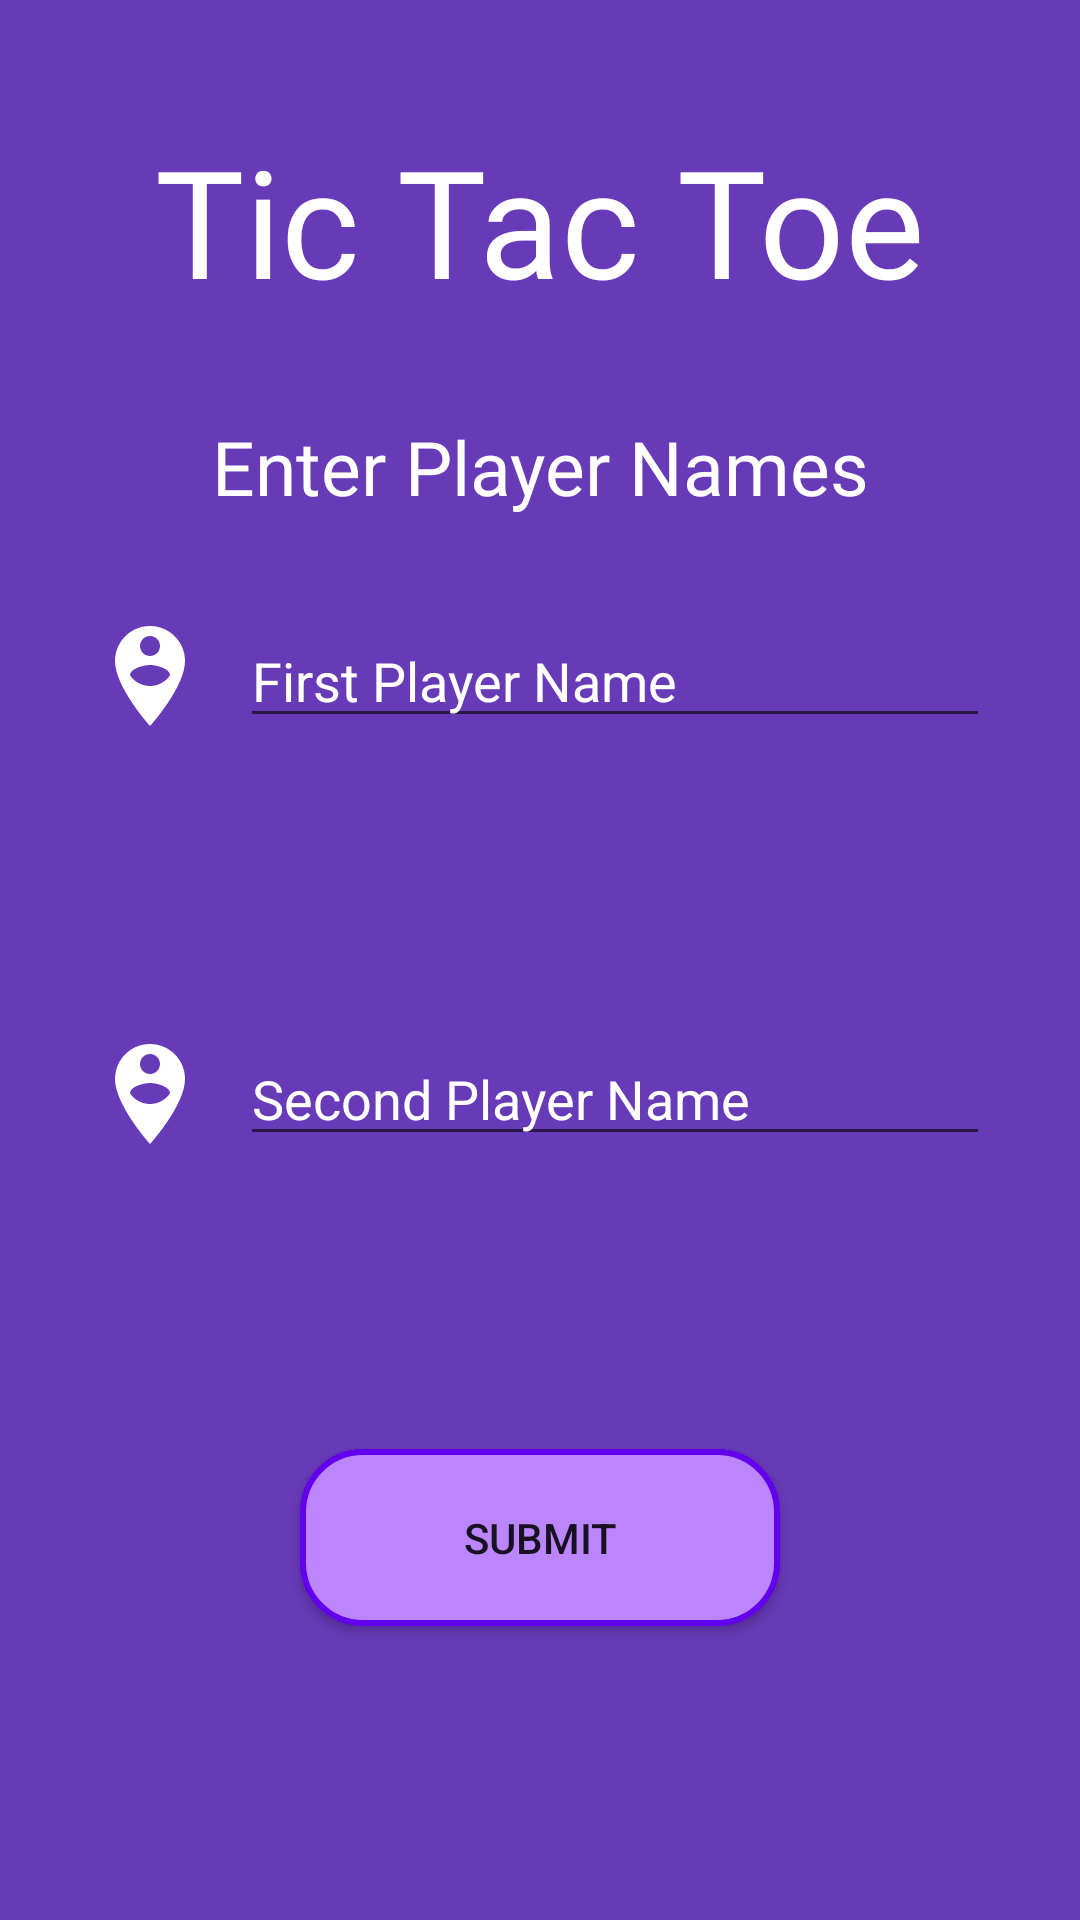

Icons on this 1080x1920 Android screen, each with its box as (left=x1, top=y1, right=x2, bottom=y2):
person pin circle: (left=115, top=626, right=185, bottom=726), (left=115, top=1044, right=185, bottom=1144)
